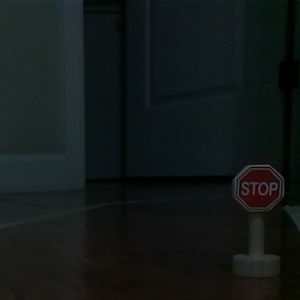stop sign: (227, 162, 287, 279)
